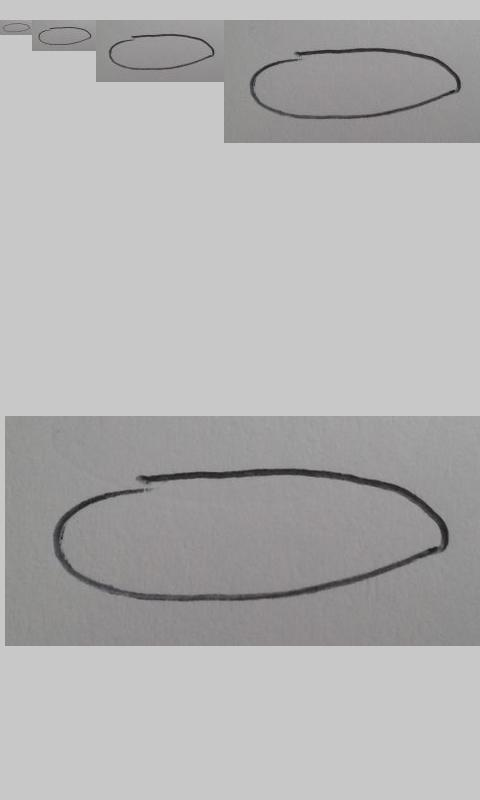chip: (52, 467, 449, 602), (249, 47, 462, 121), (109, 34, 215, 71), (38, 27, 92, 46), (3, 23, 31, 33)
